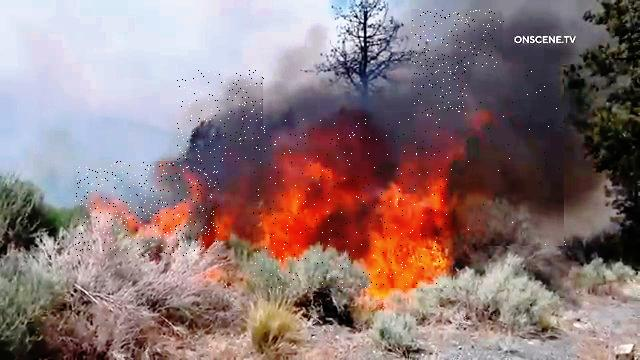fire: (253, 119, 453, 288), (75, 162, 220, 257)
smoke: (468, 68, 567, 249), (412, 10, 505, 117), (178, 70, 266, 162)
